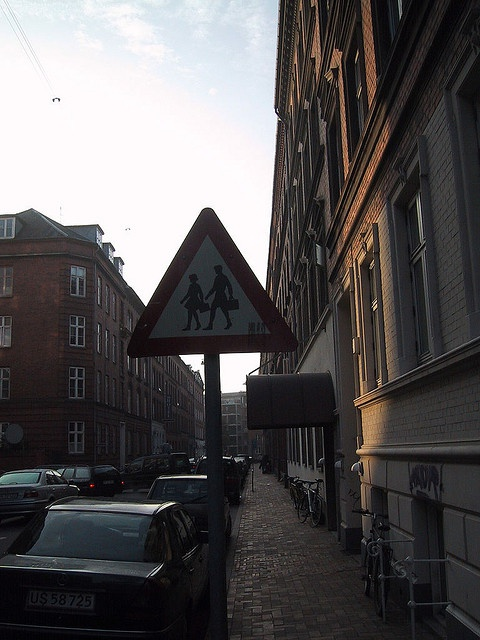non-vehicle: (353, 505, 392, 617), (297, 477, 324, 525), (286, 477, 301, 507)
